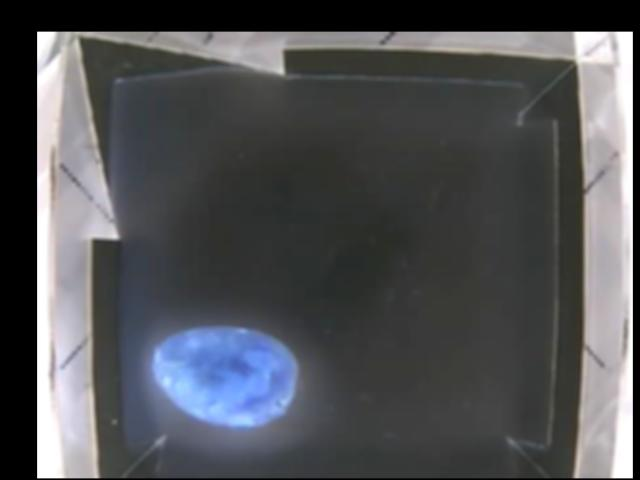Potato: (152, 325, 297, 428)
